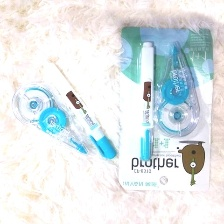book: (114, 24, 216, 194)
correction_fluid: (40, 57, 119, 162), (9, 78, 97, 159), (151, 37, 204, 139), (131, 37, 160, 163)
